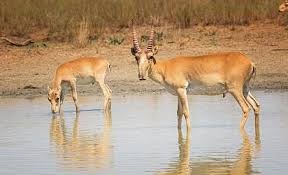saiga: (129, 17, 262, 148), (46, 56, 113, 113)
